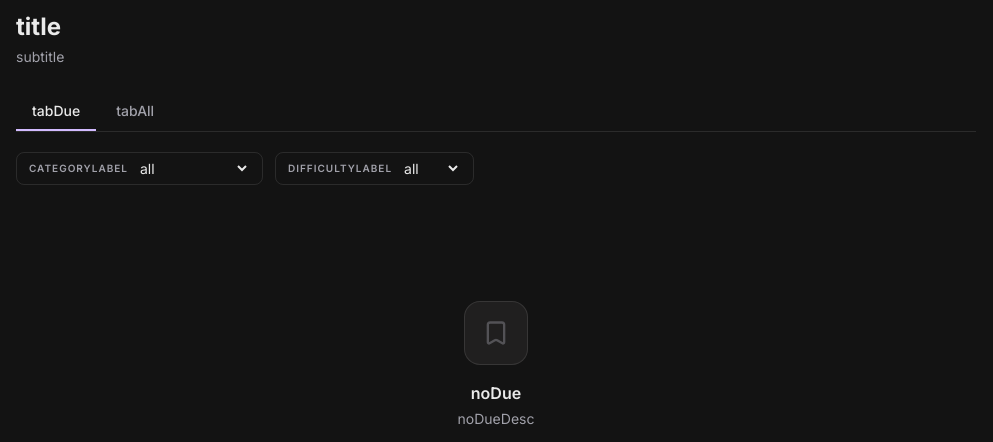
BookmarksClient — rendering › shows noBookmarks message in "all" tab when list is empty
Step 1. Click the button "tabAll" → (135, 111), box 100,91 -> 170,131
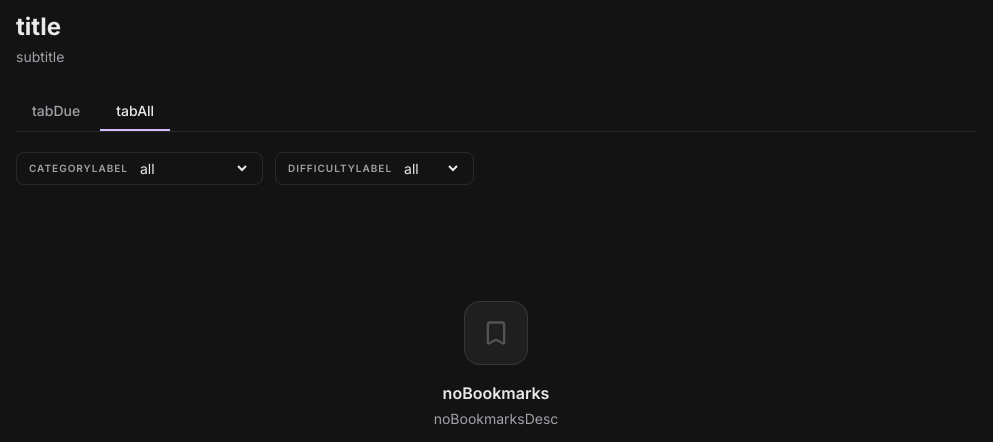
Expected: the text "noBookmarks" is shown, 443,381 -> 549,405
